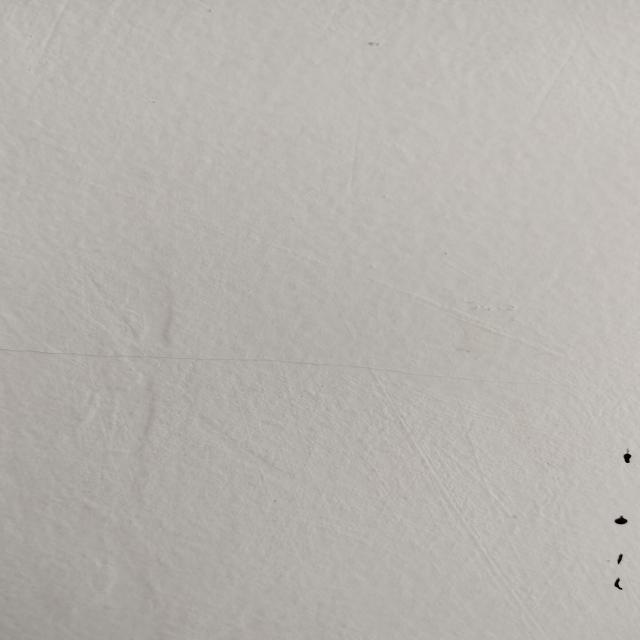Crack: (3, 346, 640, 394)
